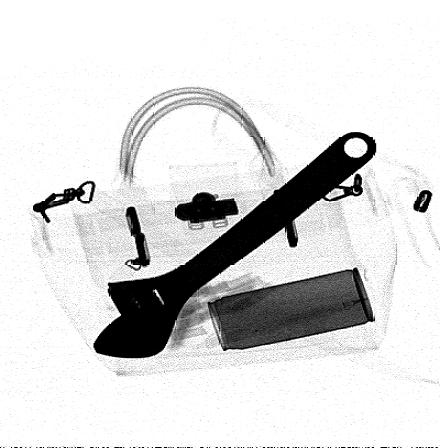Wrench: (93, 132, 377, 359)
